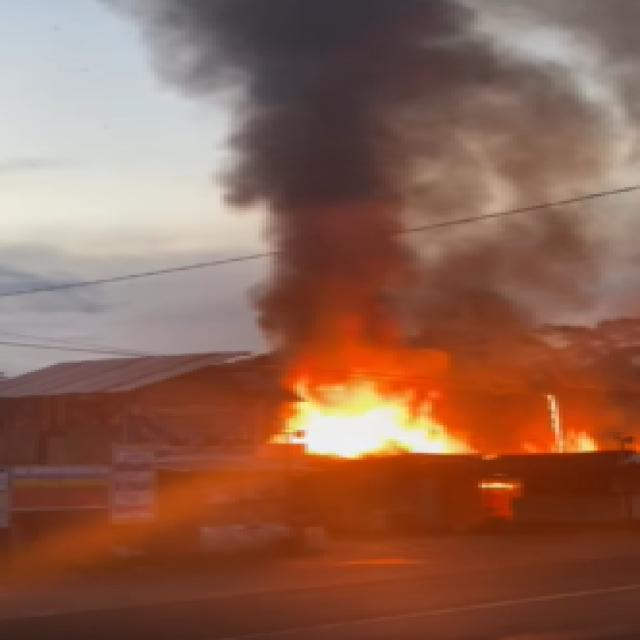Fire: (282, 352, 634, 465)
